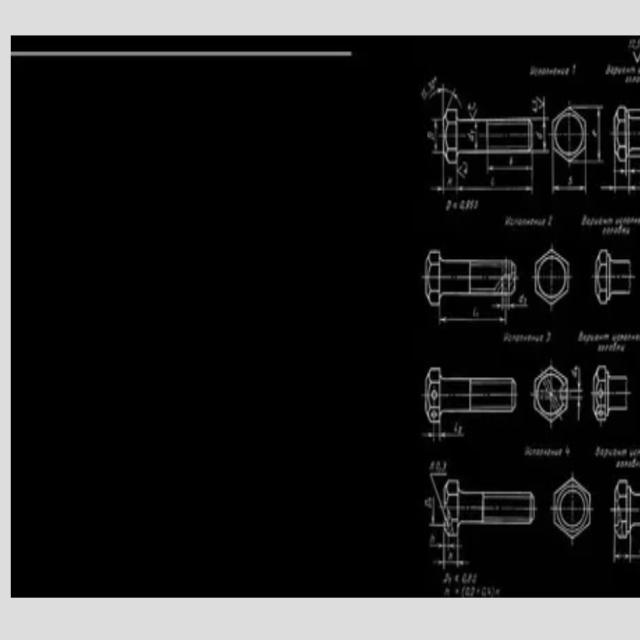marking_line: (438, 307, 508, 326), (427, 536, 466, 568), (424, 424, 465, 441), (570, 368, 581, 420), (492, 296, 529, 311), (612, 540, 630, 562)
